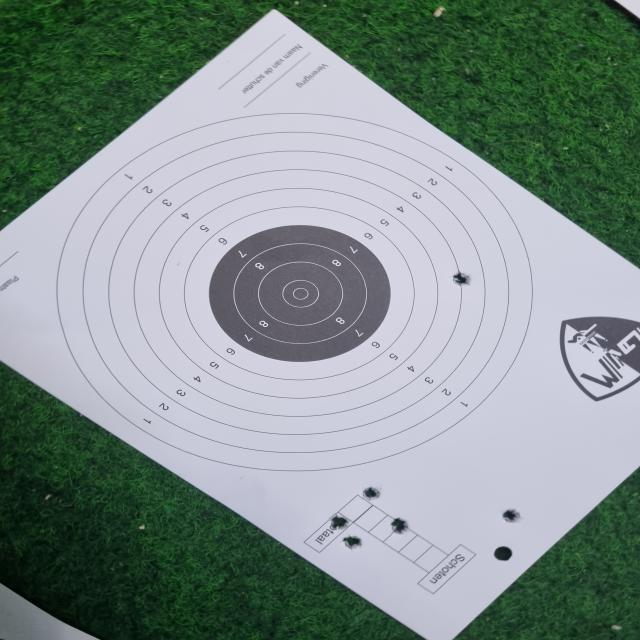5: (452, 272, 472, 286)
Black Contour: (210, 225, 391, 364)
Target: (56, 114, 533, 474)
hole: (502, 508, 522, 524), (343, 535, 362, 550), (330, 516, 350, 530), (391, 518, 408, 534), (362, 488, 380, 500)
